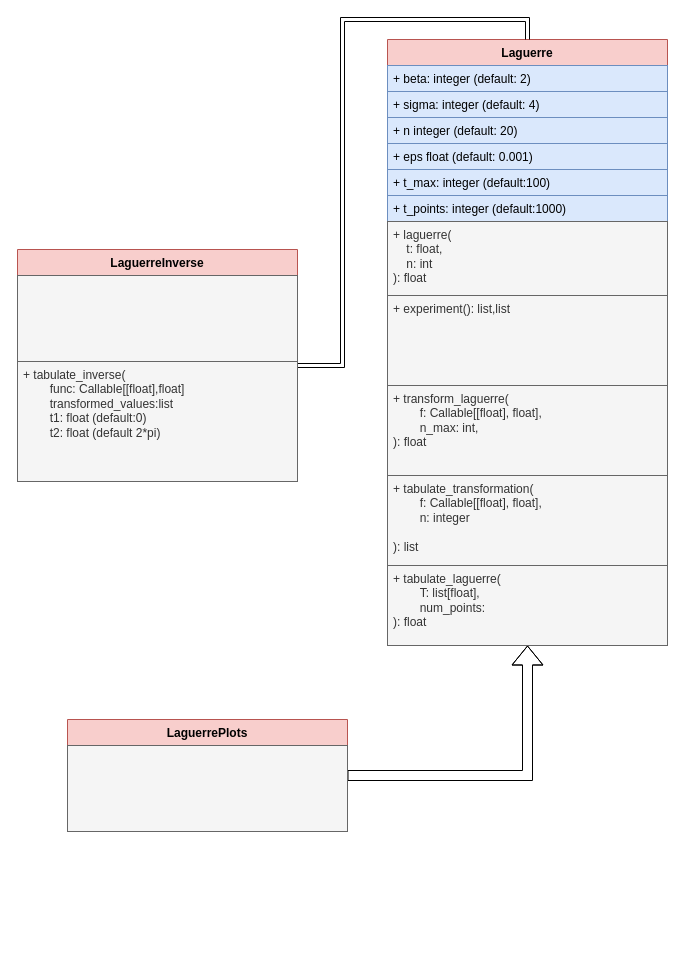
This 685x967 diagram has some shape labels left out. The shapes that lost their labels are listed below. From the top down, each one's centre as x and y in pixels, then its label:
At (157,318): "+ plot_laguerre_polynomials( h: list[] t:integer ): None".
At (207,788): "+ make_plots ( T : float, N:float ): None".
